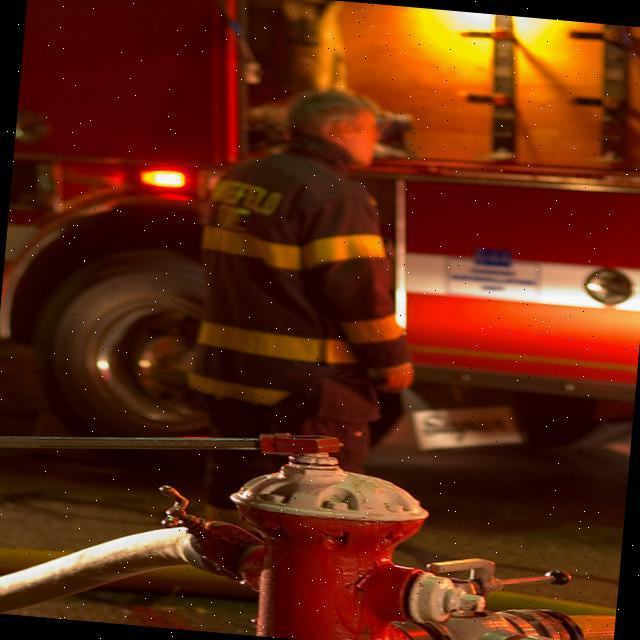fire_hydrant: (148, 435, 627, 640)
